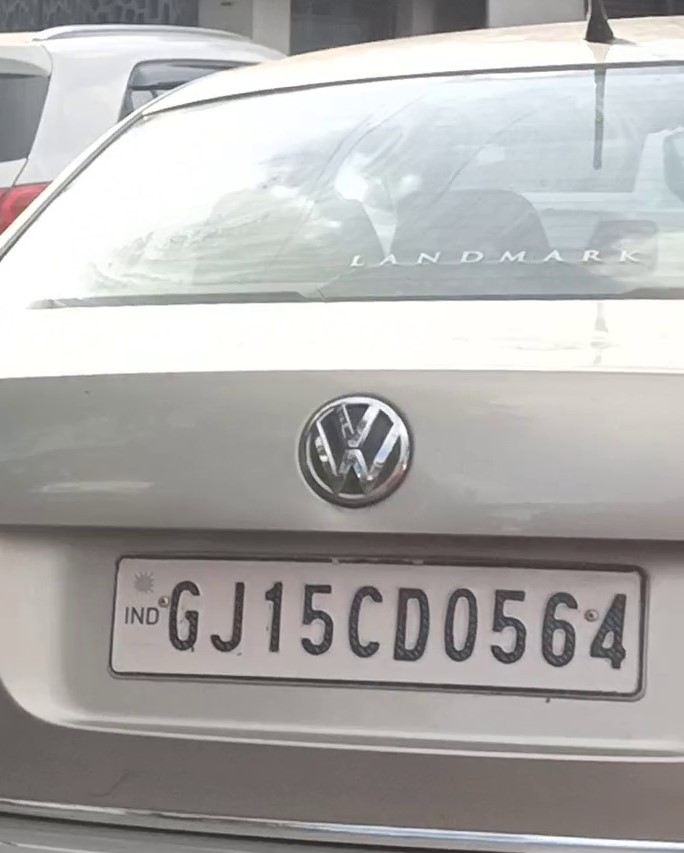GJ15CD0564: (112, 555, 644, 697)
